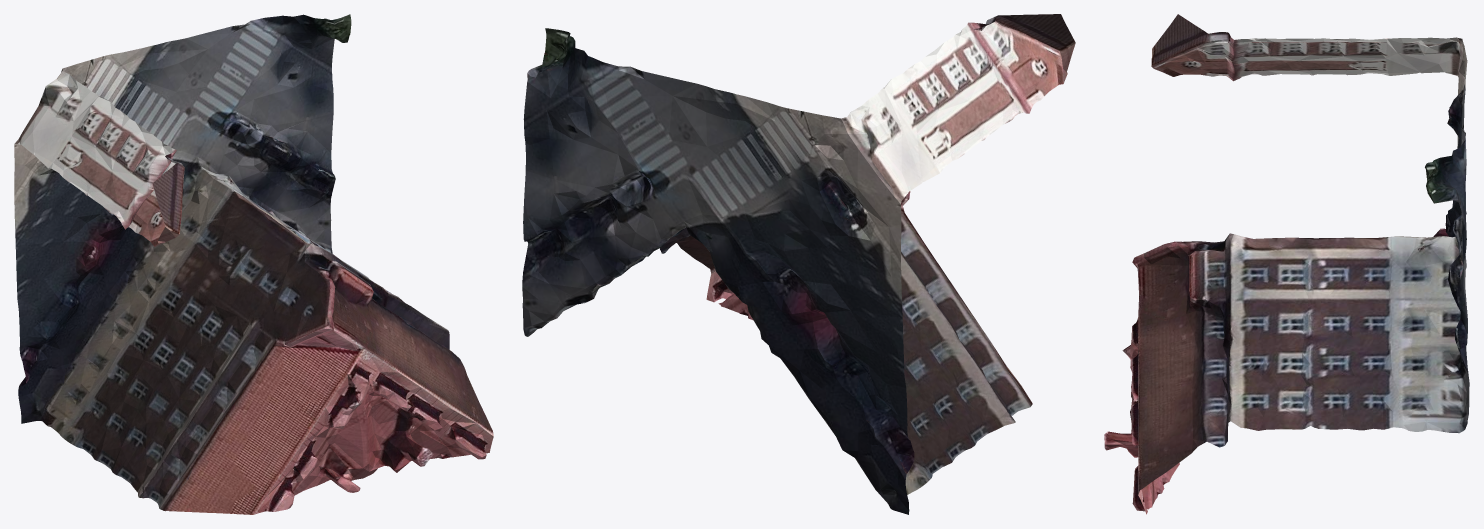
File: Tile_+031_+022_L20_0000210.obj
The picture shows the model from 3 angles, left to right: view 1: azimuth 30°, elevation 25°; view 2: azimuth 150°, elevation 25°; view 3: azimuth 270°, elevation 25°; orthographic projection. The views are drawn at different scales.
Size of the model in its own units: 31.5 by 31.5 by 30.53.
1 material, 1 textured.
